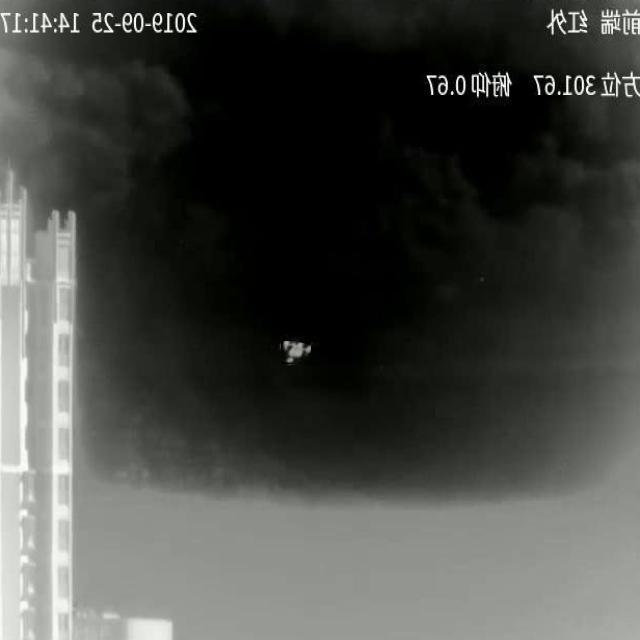drone: (282, 341, 311, 363)
